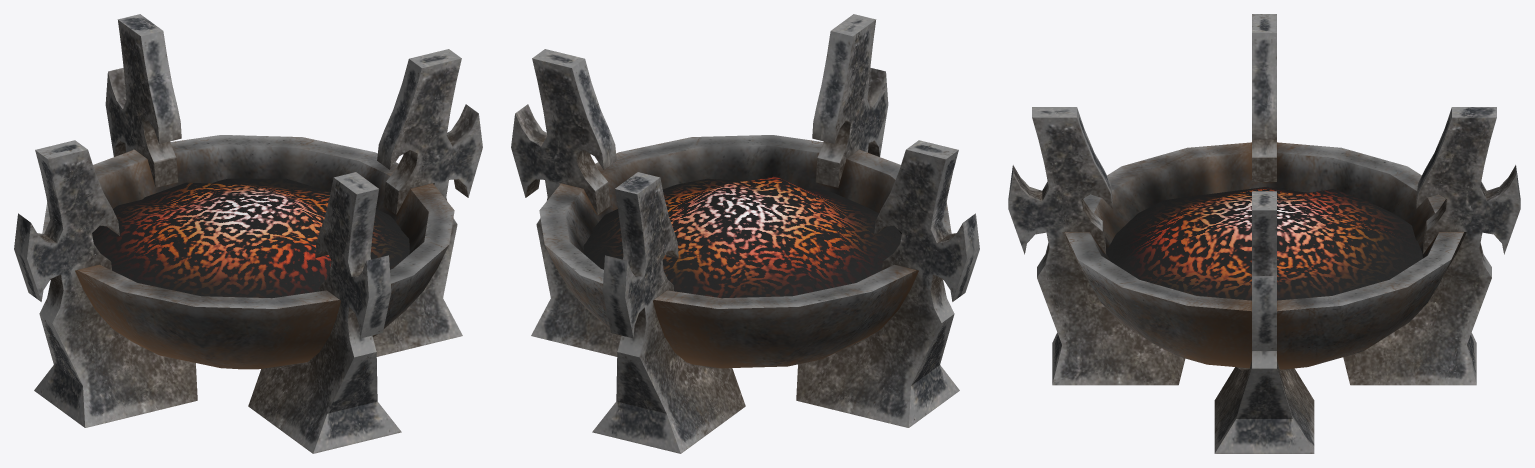
Rendered from fire_place.FBX.
3 views of the same model, side by side, from view 1: azimuth 30°, elevation 25°; view 2: azimuth 150°, elevation 25°; view 3: azimuth 270°, elevation 25° (orthographic). The views are drawn at different scales.
Parts seen in each view (by area): view 1: Bowl, Charcoal, Leg03, Leg04, Leg01, Leg02; view 2: Bowl, Charcoal, Leg03, Leg02, Leg01, Leg04; view 3: Bowl, Charcoal, Leg02, Leg04, Leg01, Leg03.
Part boxes in pixels (bbox=[...]): Bowl: bbox=[42, 135, 454, 369]; Charcoal: bbox=[92, 178, 409, 298]; Leg03: bbox=[14, 140, 197, 427]; Leg04: bbox=[248, 172, 401, 453]; Leg01: bbox=[373, 49, 482, 356]; Leg02: bbox=[105, 14, 181, 187]; Bowl: bbox=[539, 135, 951, 368]; Charcoal: bbox=[583, 176, 901, 298]; Leg03: bbox=[796, 140, 979, 427]; Leg02: bbox=[592, 172, 745, 453]; Leg01: bbox=[511, 49, 620, 356]; Leg04: bbox=[812, 14, 888, 187]; Bowl: bbox=[1065, 142, 1463, 369]; Charcoal: bbox=[1106, 187, 1422, 300]; Leg02: bbox=[1343, 107, 1520, 385]; Leg04: bbox=[1008, 107, 1185, 385]; Leg01: bbox=[1214, 191, 1314, 453]; Leg03: bbox=[1252, 14, 1276, 181].
Size of the model in its own units: 203 by 110 by 203.
